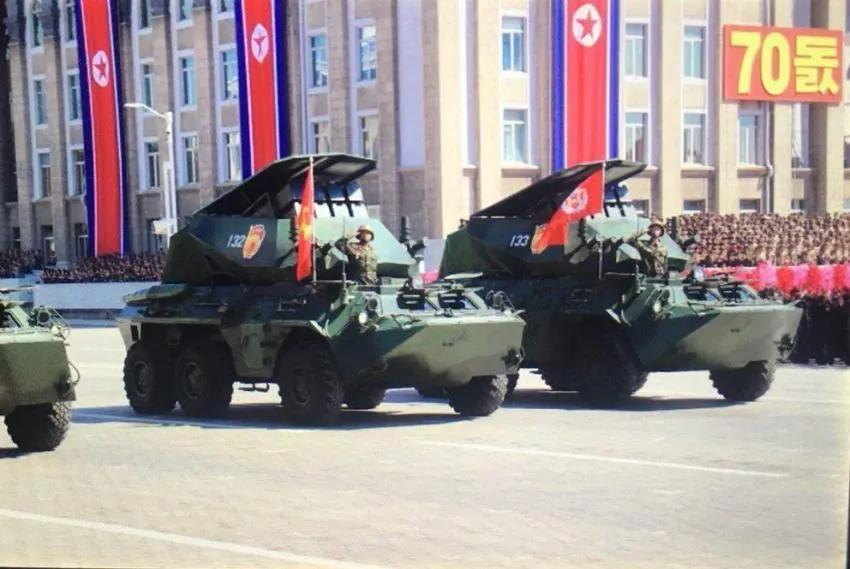MIL_IFV: (117, 149, 528, 423), (434, 159, 803, 402)
